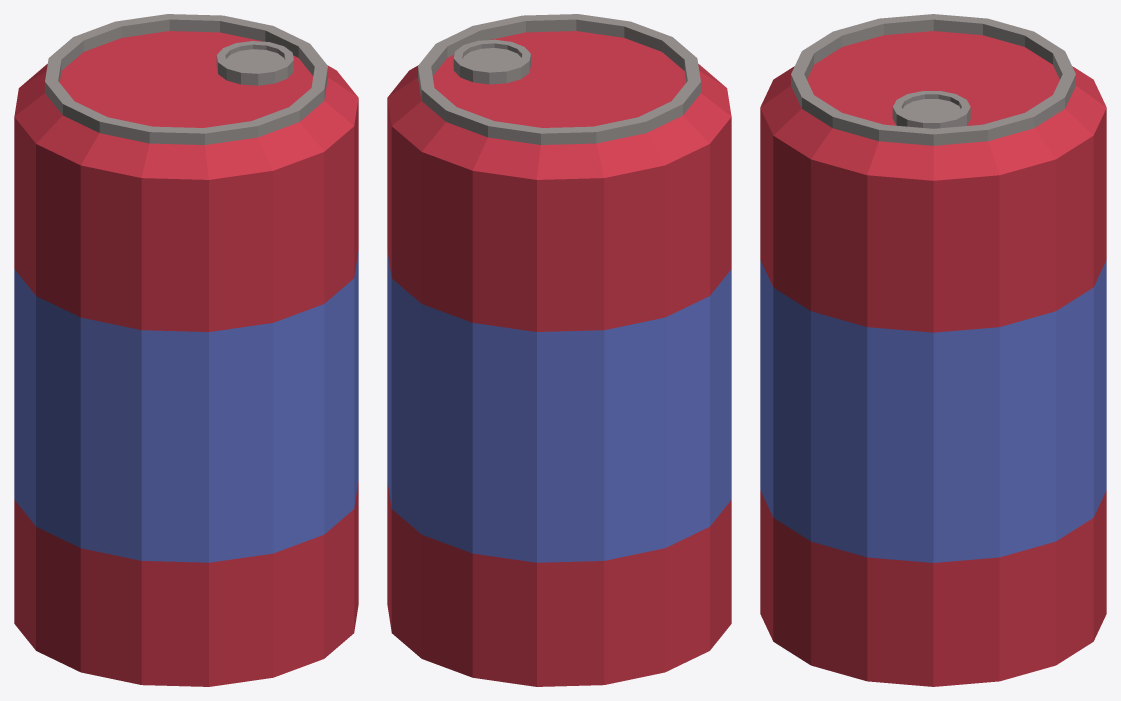
Rendered from can.fbx.
3 views of the same model, side by side, from view 1: azimuth 30°, elevation 25°; view 2: azimuth 150°, elevation 25°; view 3: azimuth 270°, elevation 25° (orthographic).
Visible parts, largest first — view 1: Circle; view 2: Circle; view 3: Circle.
Boxes of the visible parts, bbox=[...] form: Circle: bbox=[14, 14, 358, 686]; Circle: bbox=[387, 14, 731, 686]; Circle: bbox=[760, 14, 1106, 686].
Bounding box in the file's own units: 42.9 × 75.51 × 42.9.
